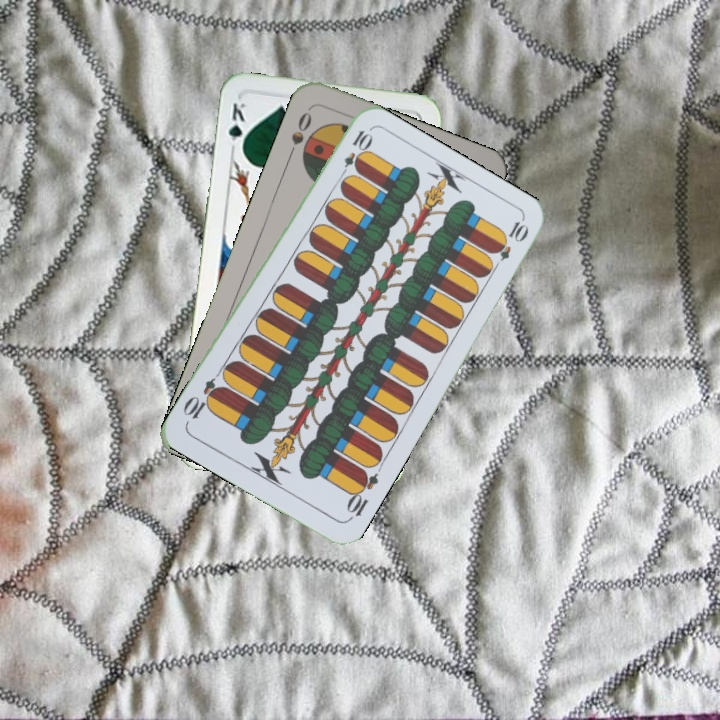E10: (342, 466, 381, 523), (335, 126, 374, 182)
GK: (224, 98, 248, 156)
SO: (284, 104, 315, 160)
